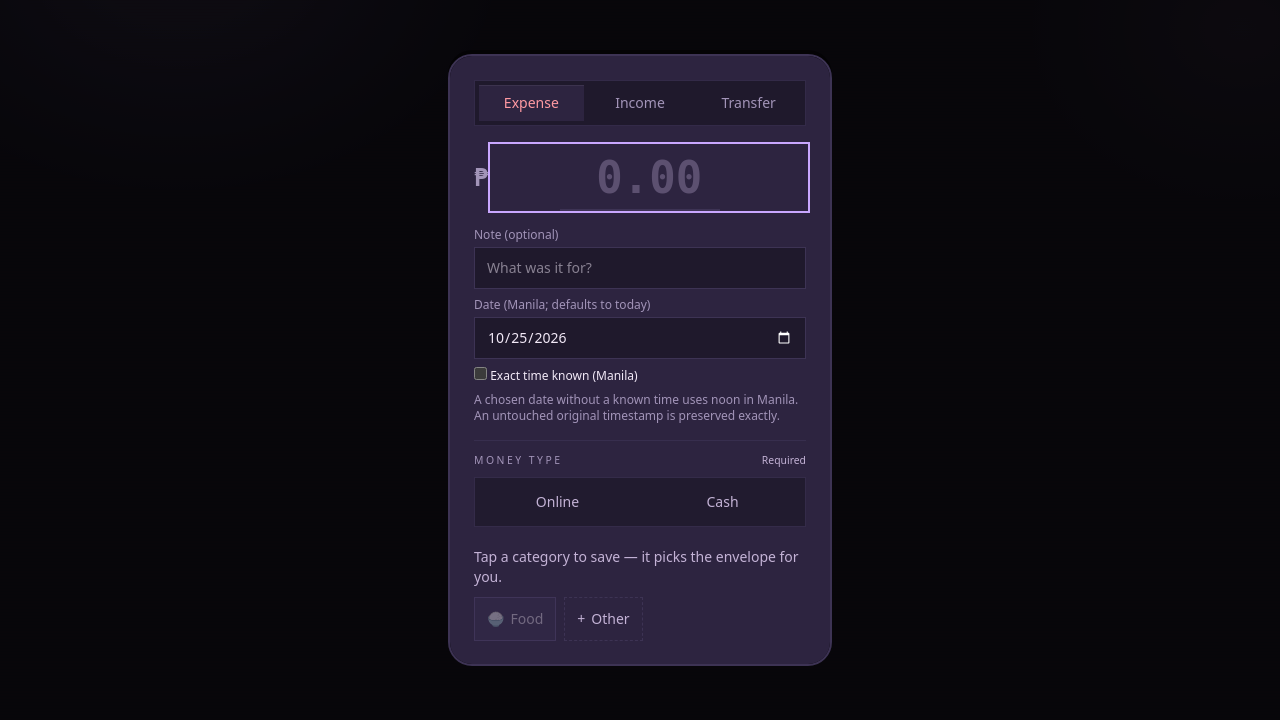
it: AddSheet amount editing › filters what a paste puts in the field
expect the button "🍚 Food" is shown: met, box [474,597,556,641]
Type "₱1,250.00" into the field named "Amount in pesos" at (649, 178), box [492,146,806,209]
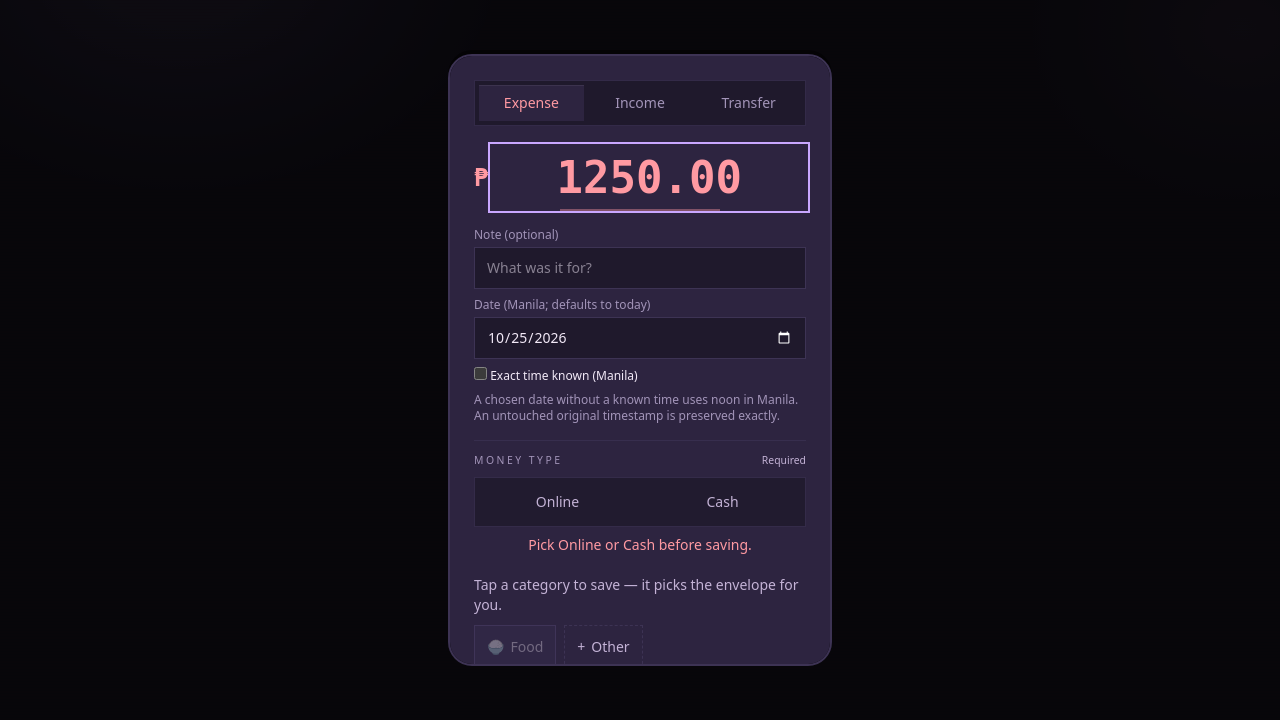
expect the field named "Amount in pesos" holds "1250.00": met, box [492,146,806,209]
